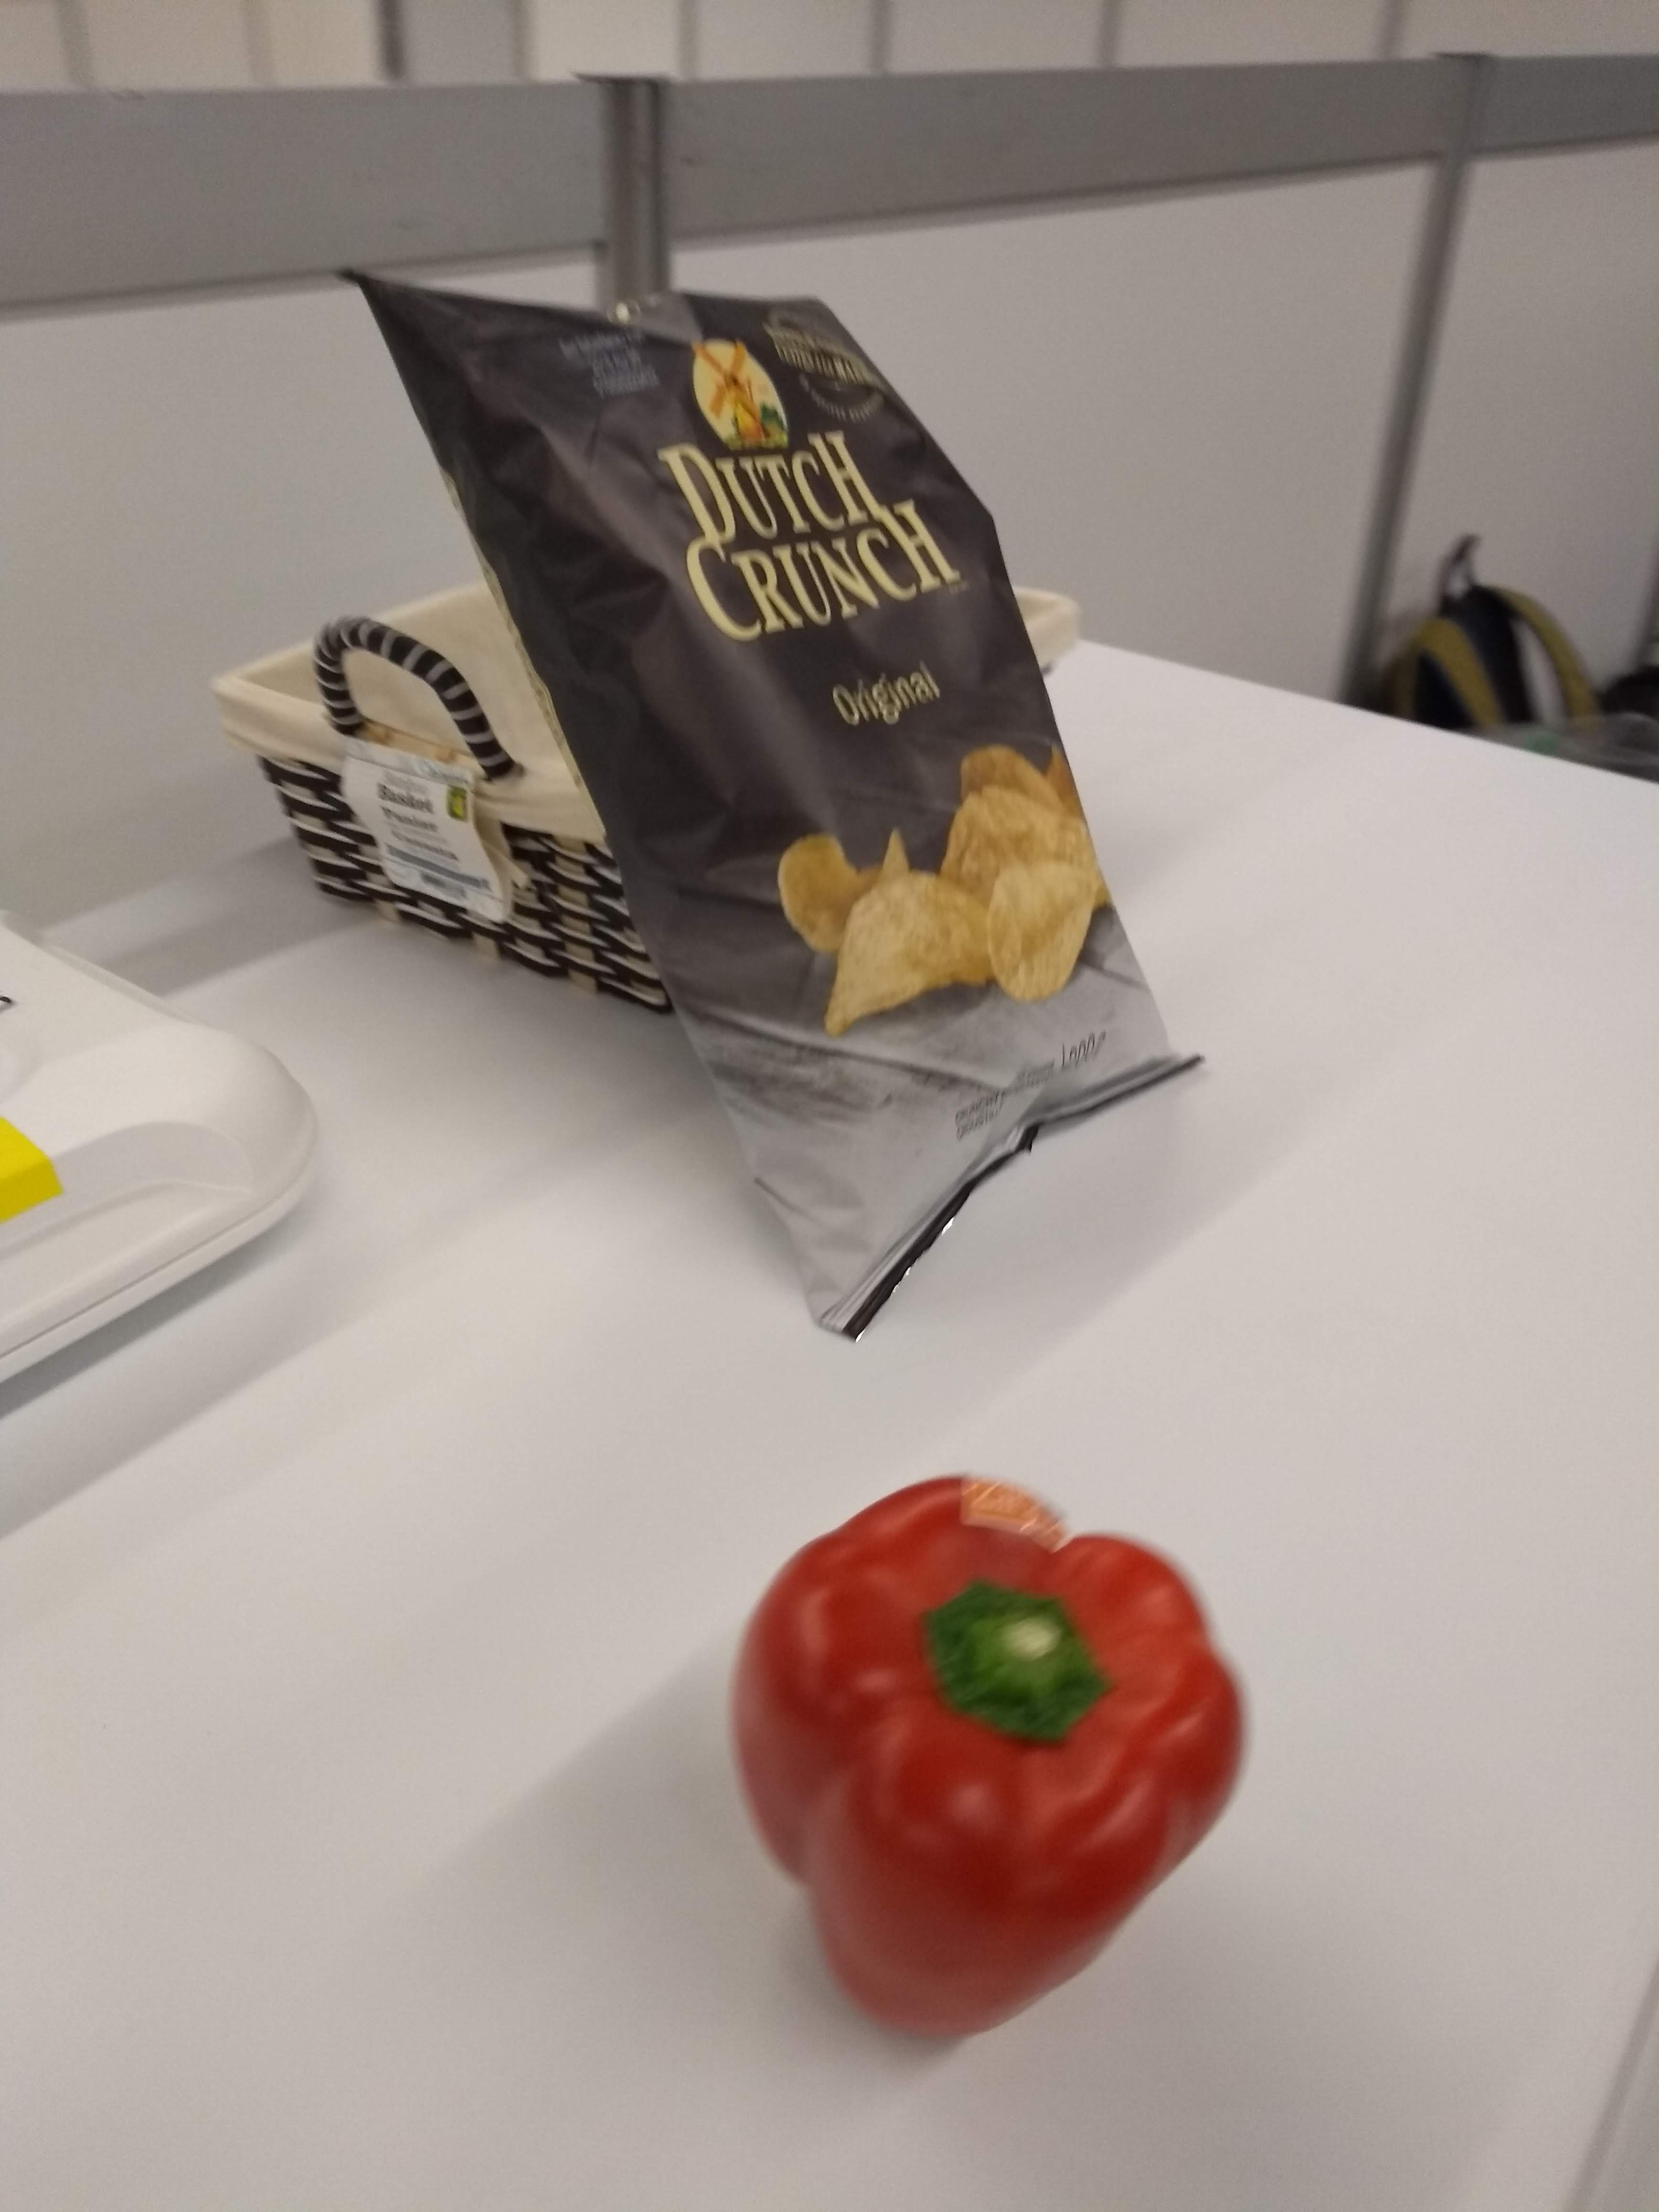paprika: (711, 1468, 1260, 2062)
potato_chips: (326, 247, 1223, 1360)
